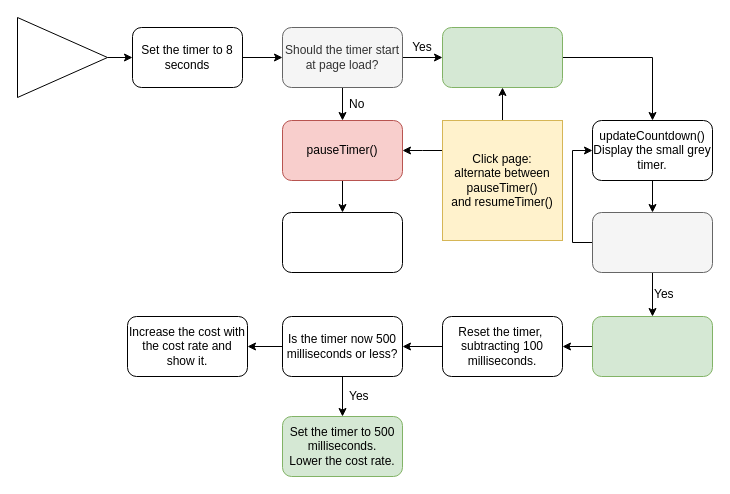
Some shapes in this 730 by 494 pixel diagram are drawn without their labels. The centre of each missing label's shape, as x and y in pixels:
Decrease the timer by 16 milliseconds. Reached 0 seconds?: the point at 652,242
incrementCost(): the point at 652,346
Load Page: the point at 62,57
resumeTimer() Hide the Euro sign. Stop blinking.: the point at 502,57
Stop the timer Show the euro sign Start blinking: the point at 342,242
